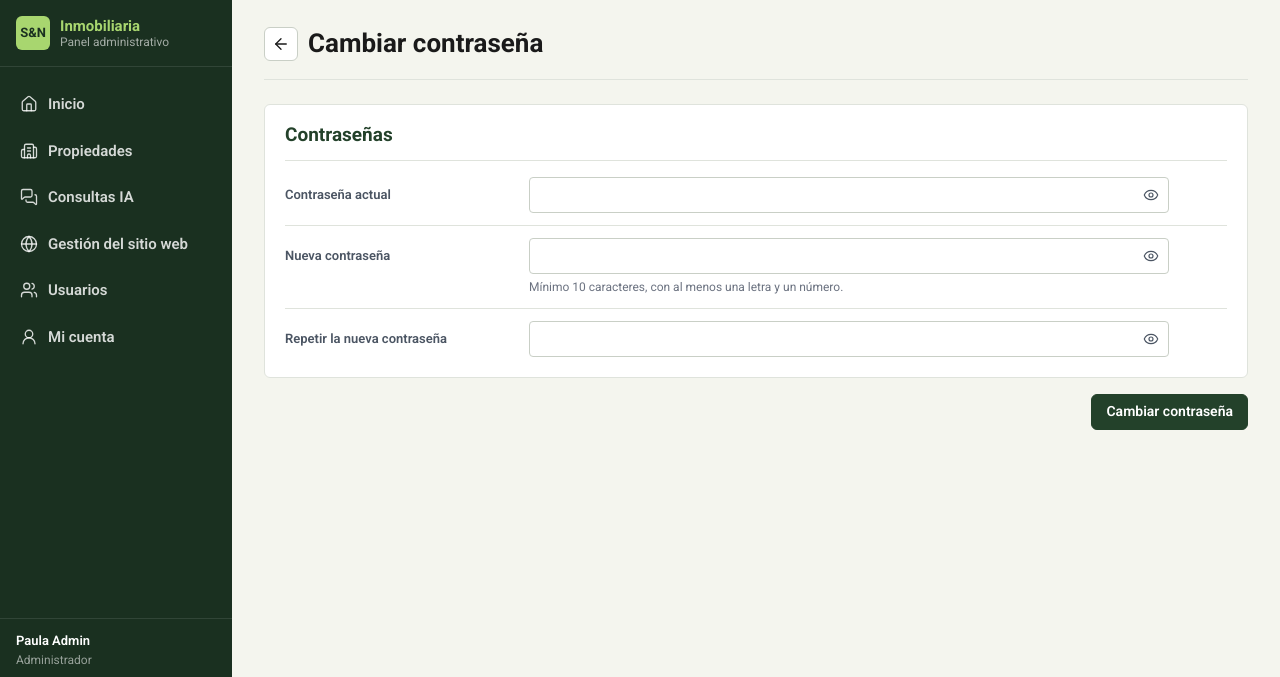
Mi cuenta y contraseña › cambiar contraseña: las dos nuevas deben coincidir; al guardar vuelve a Mi cuenta
Expected: the heading "Cambiar contraseña" is shown, [308,24,543,63]
Step 1. Type "Clave-Correcta" into the password field labelled "Contraseña actual" → (849, 194), box [529,176,1169,212]
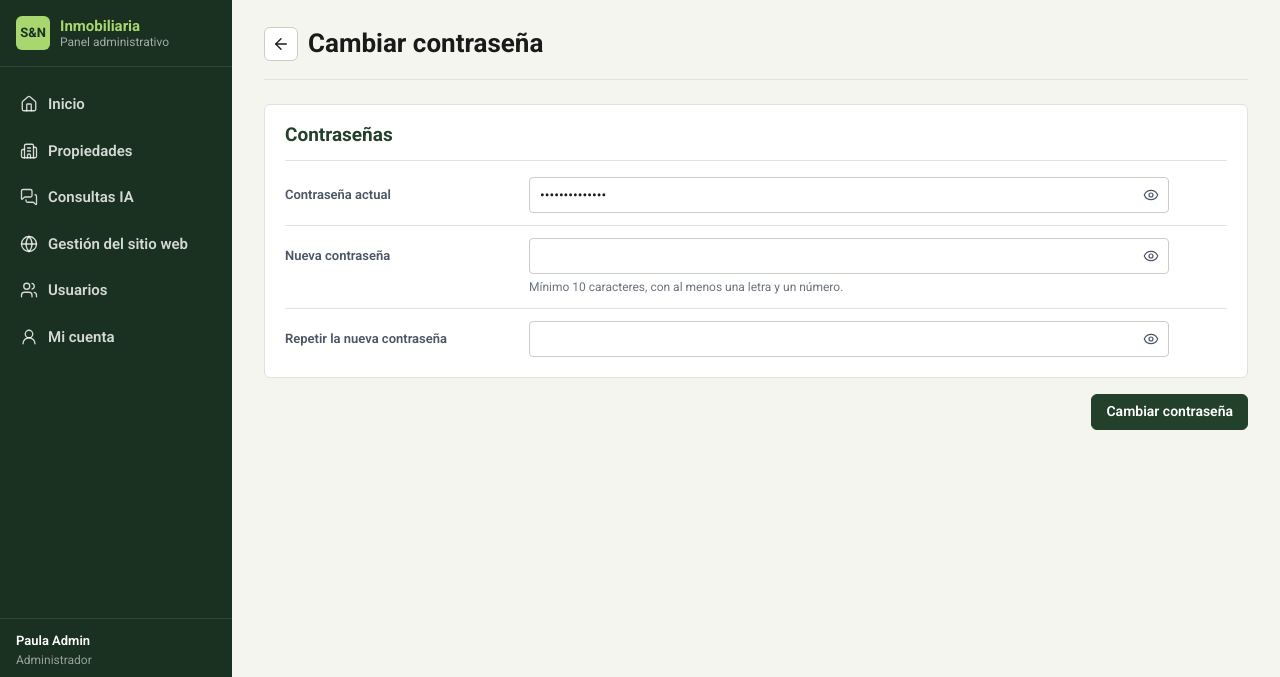
Step 2. Type "OtraClave2026" into the 2nd password field → (849, 256), box [529,238,1169,274]
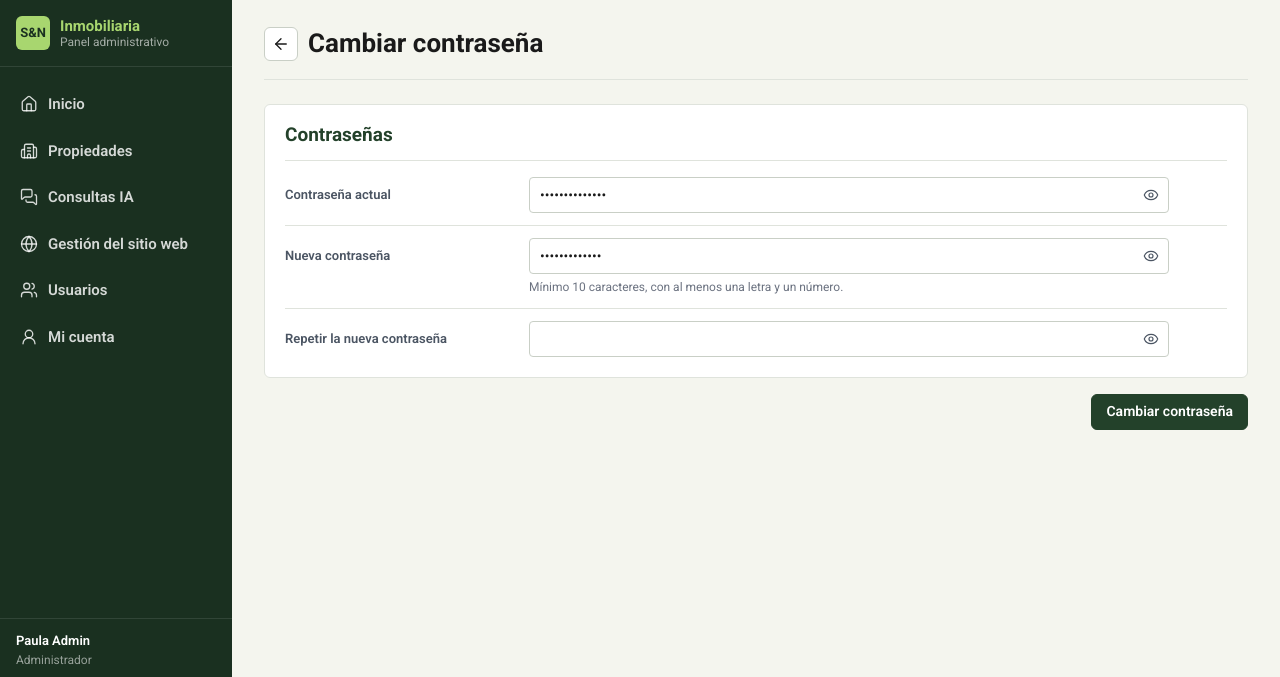
Step 3. Type "distinta" into the password field labelled "Repetir la nueva contraseña" → (849, 338), box [529,320,1169,356]
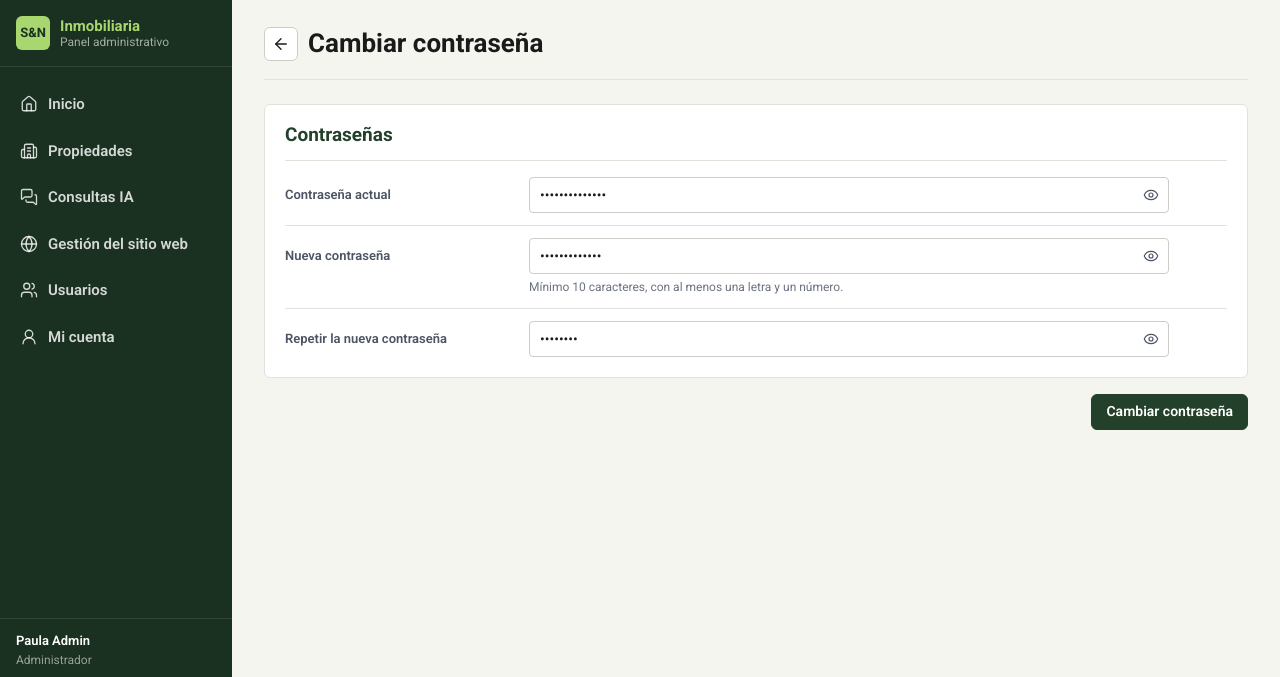
Step 4. Click the button "Cambiar contraseña" → click(1170, 412), box [1092,394,1248,430]
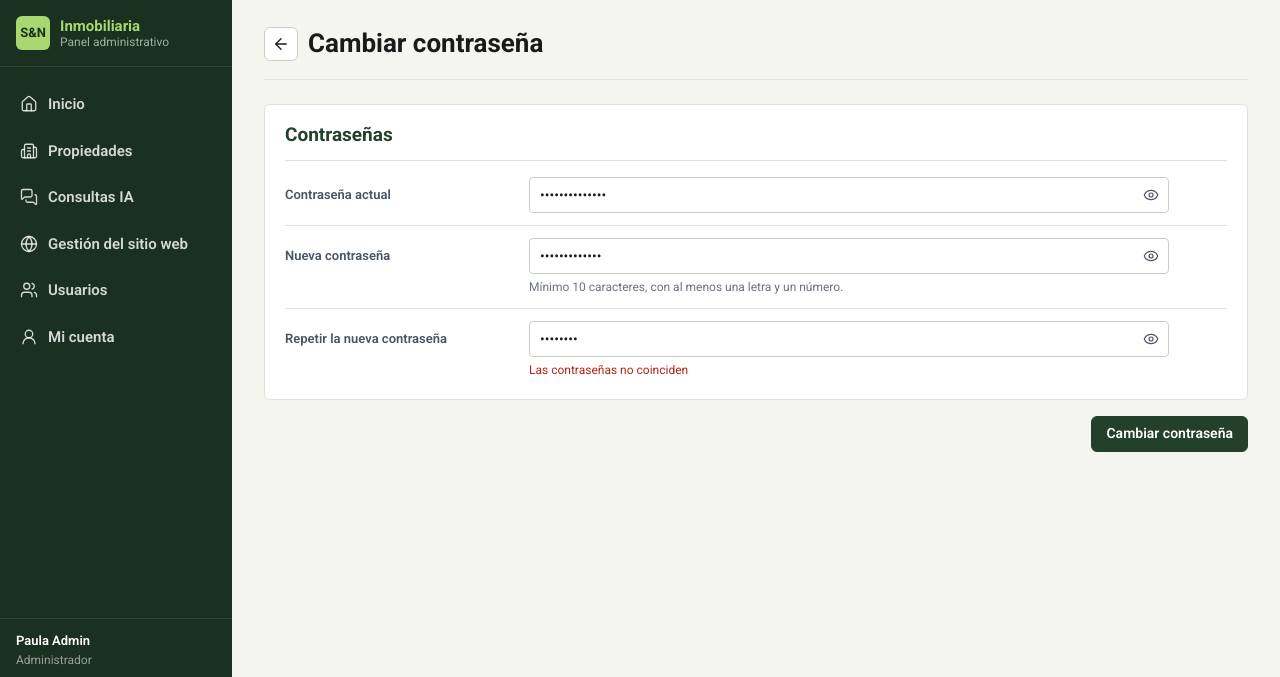
Expected: the text "Las contraseñas no coinciden" is shown, [529,362,688,376]
Step 5. Type "OtraClave2026" into the password field labelled "Repetir la nueva contraseña Las contraseñas no coinciden" → (849, 338), box [529,320,1169,356]
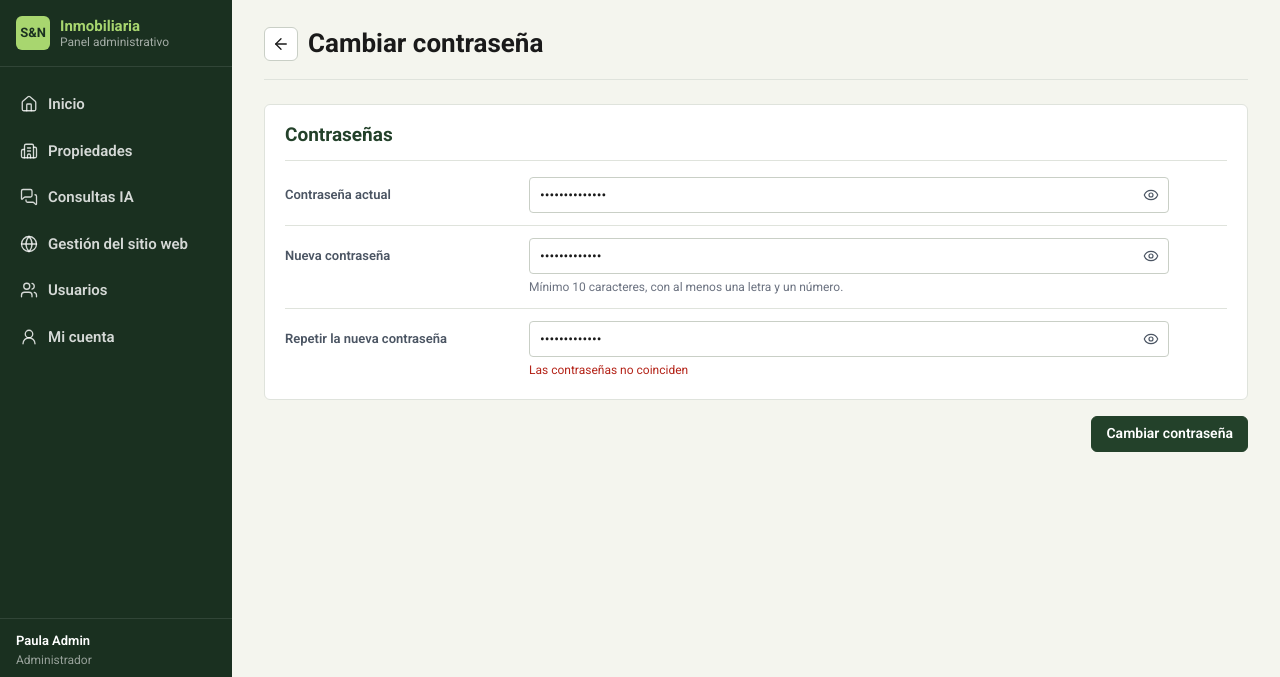
Step 6. Click the button "Cambiar contraseña" → click(1170, 434), box [1092,416,1248,452]
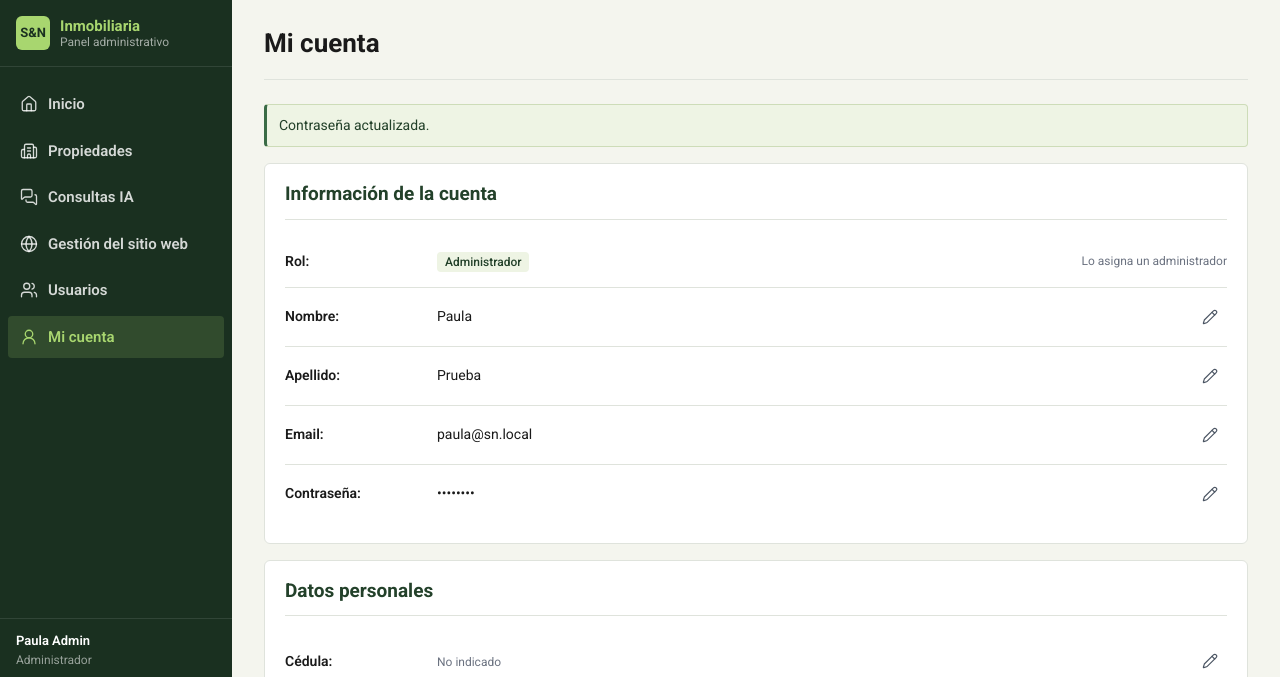
Expected: the text "Contraseña actualizada." is shown, [264,104,1248,147]
